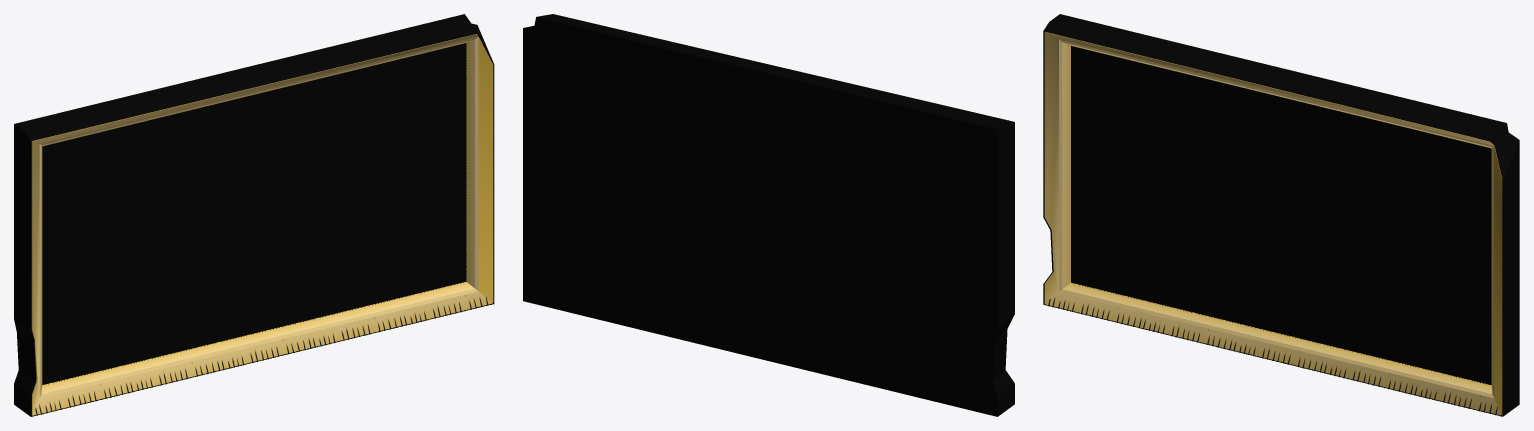
The model's file is PictureFrame_01.glb.
3 renders of one model, left to right at view 1: azimuth 30°, elevation 25°; view 2: azimuth 150°, elevation 25°; view 3: azimuth 330°, elevation 25°, orthographic. The views are drawn at different scales.
Parts seen in each view (by area): view 1: PictureFrame_01; view 2: PictureFrame_01; view 3: PictureFrame_01.
Boxes of the visible parts, x1,y1,x2,y2 form: PictureFrame_01: [14, 14, 494, 416]; PictureFrame_01: [523, 14, 1014, 416]; PictureFrame_01: [1043, 14, 1519, 416].
Bounding box in the file's own units: 3.4 × 1.97 × 0.2206.
3 materials, 2 textured.
